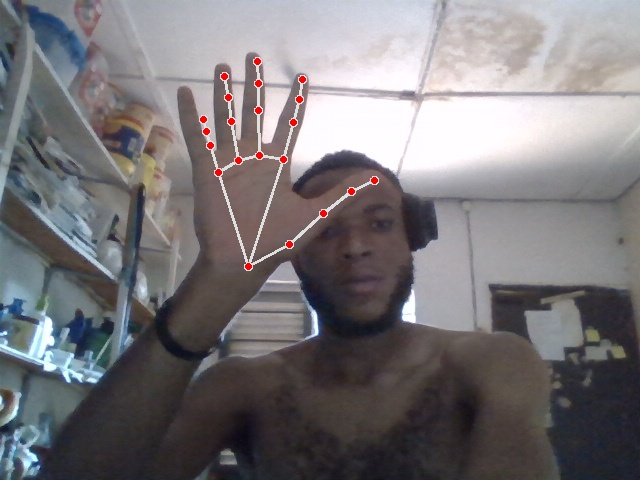no: (177, 53, 388, 280)
